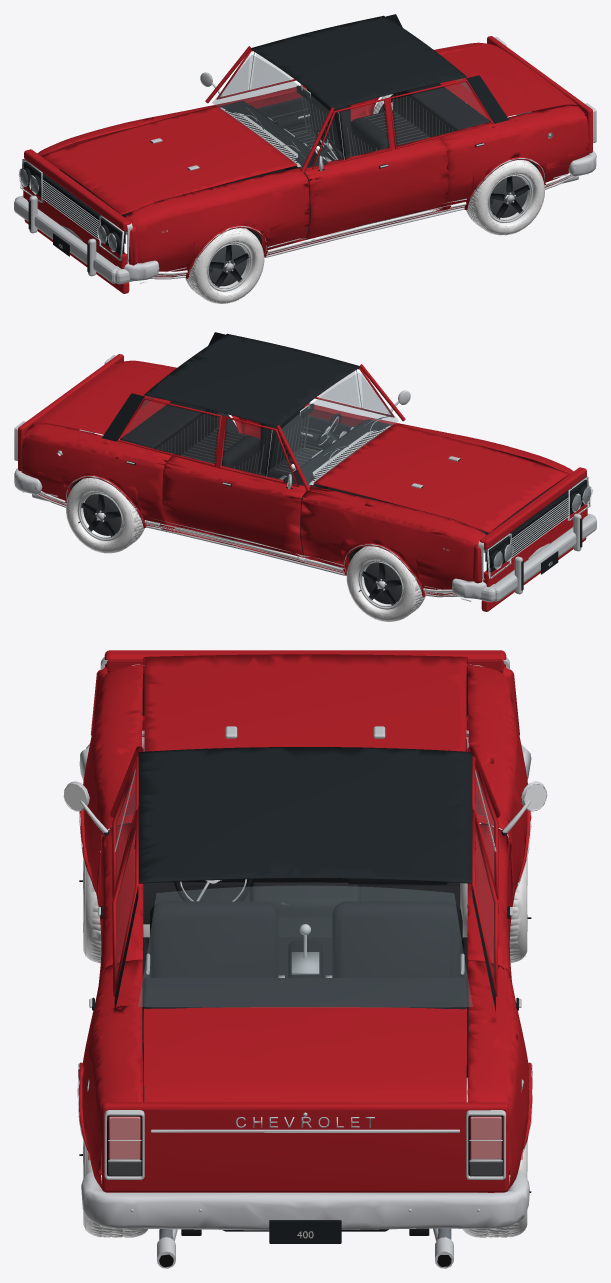
Rendered from chevy_400_1957-lod1.glb.
The picture shows the model from 3 angles, top to bottom: view 1: azimuth 30°, elevation 25°; view 2: azimuth 150°, elevation 25°; view 3: azimuth 270°, elevation 25°; orthographic projection. The views are drawn at different scales.
Visible parts, largest first — view 1: chevy_400_1957_static_Vehicle_Paint_400_Reference_Red, chevy_400_1957_hood_ReferenceContinuousRedSkin, chevy_400_1957_static_Vehicle_Glass_400_Reference, chevy_400_1957_static_Vehicle_VinylRoof_400_Reference, Interior__11_Black_leather, chevy_400_1957_static_Vehicle_Chrome_400_Reference, Rear_Left_Wheel__Radial_tire_modeled_channels, Front_Left_Wheel__Radial_tire_modeled_channels, chevy_400_1957_static_Vehicle_SatinBlack_400_Reference, Interior__12_Stitching, Exterior__02_Black_lacquer, Bumpers__03_Polished_chrome (+10 smaller); view 2: chevy_400_1957_static_Vehicle_Paint_400_Reference_Red, chevy_400_1957_hood_ReferenceContinuousRedSkin, chevy_400_1957_static_Vehicle_Glass_400_Reference, chevy_400_1957_static_Vehicle_VinylRoof_400_Reference, Interior__11_Black_leather, chevy_400_1957_static_Vehicle_Chrome_400_Reference, Rear_Right_Wheel__Radial_tire_modeled_channels, Front_Right_Wheel__Radial_tire_modeled_channels, chevy_400_1957_static_Vehicle_SatinBlack_400_Reference, Interior__12_Stitching, Exterior__02_Black_lacquer, Bumpers__03_Polished_chrome (+10 smaller); view 3: chevy_400_1957_static_Vehicle_Paint_400_Reference_Red, chevy_400_1957_static_Vehicle_VinylRoof_400_Reference, chevy_400_1957_static_Vehicle_Glass_400_Reference, Interior__11_Black_leather, chevy_400_1957_hood_ReferenceContinuousRedSkin, Bumpers__03_Polished_chrome, Underbody__14_Underbody, chevy_400_1957_static_Vehicle_SatinBlack_400_Reference, Front_Right_Wheel__Radial_tire_modeled_channels, Interior__05_Black_grille, Front_Left_Wheel__Radial_tire_modeled_channels, V7_Tail_red_lens_1 (+12 smaller).
Part boxes in pixels (x1=…): chevy_400_1957_static_Vehicle_Paint_400_Reference_Red: x1=23, y1=36, x2=592, y2=293; chevy_400_1957_hood_ReferenceContinuousRedSkin: x1=41, y1=106, x2=297, y2=214; chevy_400_1957_static_Vehicle_Glass_400_Reference: x1=212, y1=53, x2=488, y2=168; chevy_400_1957_static_Vehicle_VinylRoof_400_Reference: x1=251, y1=14, x2=508, y2=123; Interior__11_Black_leather: x1=219, y1=83, x2=490, y2=223; chevy_400_1957_static_Vehicle_Chrome_400_Reference: x1=14, y1=52, x2=588, y2=284; Rear_Left_Wheel__Radial_tire_modeled_channels: x1=466, y1=160, x2=544, y2=235; Front_Left_Wheel__Radial_tire_modeled_channels: x1=185, y1=228, x2=264, y2=303; chevy_400_1957_static_Vehicle_SatinBlack_400_Reference: x1=20, y1=142, x2=484, y2=256; Interior__12_Stitching: x1=270, y1=92, x2=452, y2=156; Exterior__02_Black_lacquer: x1=158, y1=107, x2=570, y2=274; Bumpers__03_Polished_chrome: x1=62, y1=111, x2=596, y2=280; chevy_400_1957_static_Vehicle_Paint_400_Reference_Red: x1=18, y1=354, x2=587, y2=611; chevy_400_1957_hood_ReferenceContinuousRedSkin: x1=313, y1=424, x2=569, y2=532; chevy_400_1957_static_Vehicle_Glass_400_Reference: x1=122, y1=371, x2=398, y2=486; chevy_400_1957_static_Vehicle_VinylRoof_400_Reference: x1=102, y1=332, x2=359, y2=441; Interior__11_Black_leather: x1=120, y1=401, x2=391, y2=541; chevy_400_1957_static_Vehicle_Chrome_400_Reference: x1=22, y1=370, x2=596, y2=602; Rear_Right_Wheel__Radial_tire_modeled_channels: x1=66, y1=478, x2=144, y2=553; Front_Right_Wheel__Radial_tire_modeled_channels: x1=346, y1=546, x2=425, y2=621; chevy_400_1957_static_Vehicle_SatinBlack_400_Reference: x1=126, y1=460, x2=590, y2=574; Interior__12_Stitching: x1=158, y1=410, x2=338, y2=474; Exterior__02_Black_lacquer: x1=40, y1=425, x2=452, y2=592; Bumpers__03_Polished_chrome: x1=14, y1=429, x2=549, y2=598; chevy_400_1957_static_Vehicle_Paint_400_Reference_Red: x1=78, y1=650, x2=532, y2=1192; chevy_400_1957_static_Vehicle_VinylRoof_400_Reference: x1=114, y1=747, x2=495, y2=1012; chevy_400_1957_static_Vehicle_Glass_400_Reference: x1=116, y1=772, x2=494, y2=1007; Interior__11_Black_leather: x1=134, y1=835, x2=475, y2=1016; chevy_400_1957_hood_ReferenceContinuousRedSkin: x1=144, y1=654, x2=466, y2=751; Bumpers__03_Polished_chrome: x1=79, y1=737, x2=531, y2=1230; Underbody__14_Underbody: x1=109, y1=822, x2=468, y2=1235; chevy_400_1957_static_Vehicle_SatinBlack_400_Reference: x1=92, y1=674, x2=518, y2=1243; Front_Right_Wheel__Radial_tire_modeled_channels: x1=460, y1=823, x2=527, y2=962; Interior__05_Black_grille: x1=167, y1=878, x2=449, y2=977; Front_Left_Wheel__Radial_tire_modeled_channels: x1=83, y1=828, x2=149, y2=963; V7_Tail_red_lens_1: x1=469, y1=1116, x2=502, y2=1159.
Bounding box in the file's own units: 2 × 0.6283 × 0.8488.
Materials: 53 (3 with a texture image).
